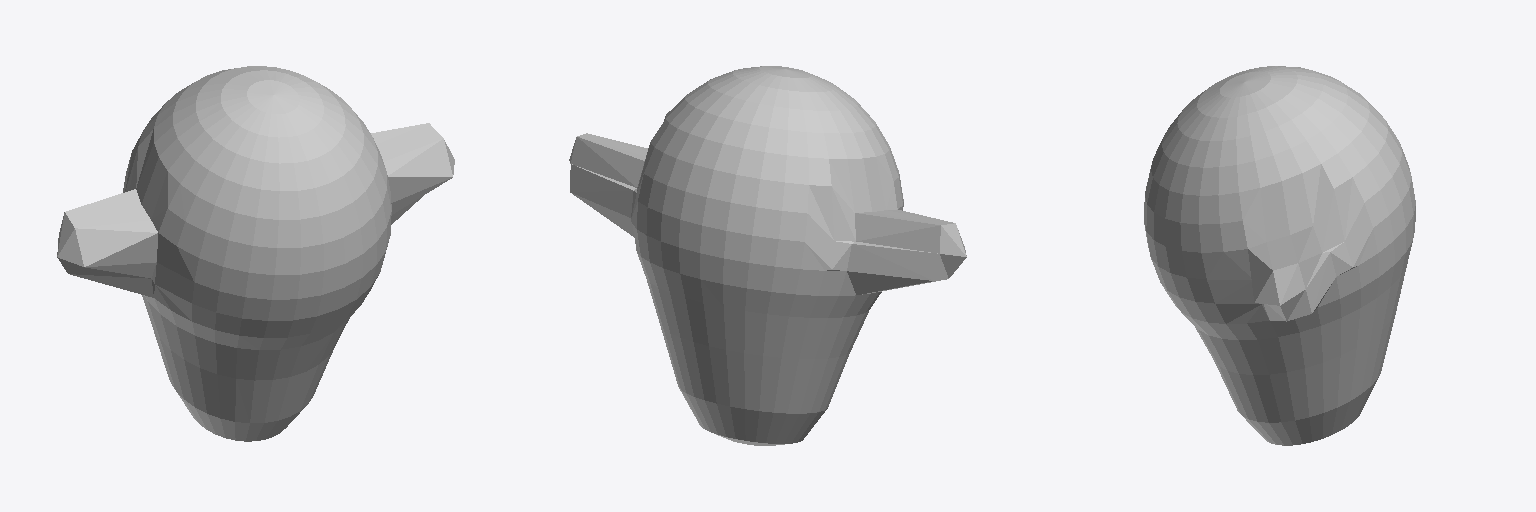
Rendered from menh.obj.
3 views of the same model, side by side, from view 1: azimuth 30°, elevation 25°; view 2: azimuth 150°, elevation 25°; view 3: azimuth 270°, elevation 25° (orthographic).
Parts seen in each view (by area): view 1: Sphere007; view 2: Sphere007; view 3: Sphere007.
Boxes of the visible parts, x1=… form: Sphere007: x1=57, y1=66, x2=454, y2=441; Sphere007: x1=569, y1=66, x2=966, y2=445; Sphere007: x1=1144, y1=66, x2=1415, y2=445.
Bounding box in the file's own units: 3.87 × 3.31 × 2.29.